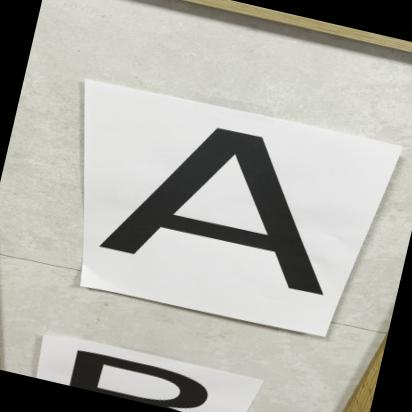seat: (78, 93, 388, 330)
